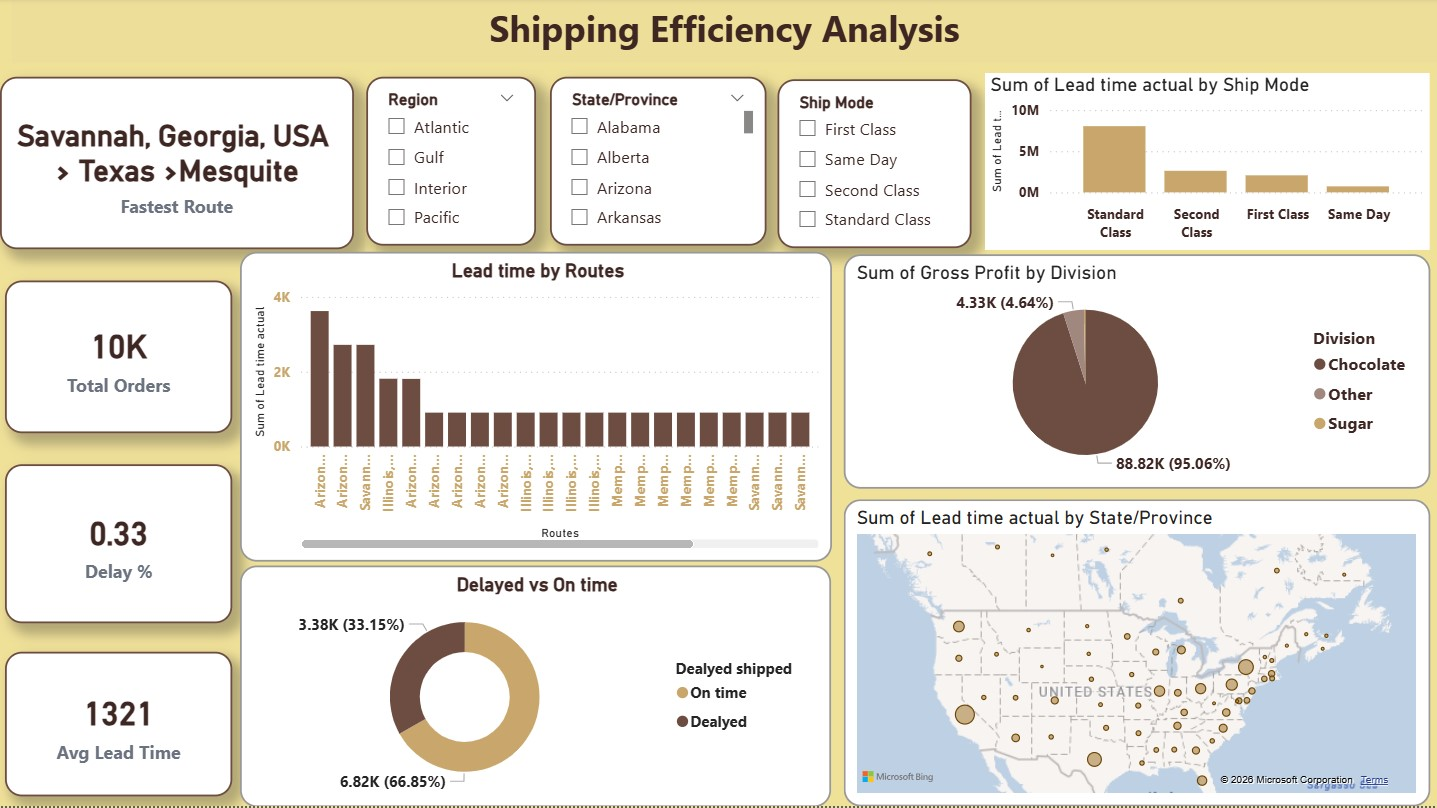

The dashboard page shown, as its layout file describes it:
{"tool":"powerbi","page":{"name":"Shipping efficiency Dashboard","canvas":[1280,720],"ordinal":7},"visuals":[{"type":"textbox","box":[10.2,0,1270.1,58.6],"z":0},{"type":"card","fields":{"Values":["Nassau Candy Distributor.Delay %"]},"box":[5,415,202.5,141.2],"z":1000},{"type":"card","fields":{"Values":["Nassau Candy Distributor.Total Orders"]},"box":[5,251.2,202.5,136.2],"z":2000},{"type":"card","fields":{"Values":["Nassau Candy Distributor.Avg Lead Time"]},"box":[5,582.5,202.5,128.8],"z":3000},{"type":"card","fields":{"Values":["Nassau Candy Distributor.Fastest Route"]},"box":[0,70,315,153.8],"z":4000},{"type":"slicer","fields":{"Values":["Nassau Candy Distributor.Region"]},"box":[326.2,70,151.2,150],"z":5000},{"type":"slicer","fields":{"Values":["Nassau Candy Distributor.State/Province"]},"box":[490,70,192.5,150],"z":6000},{"type":"slicer","fields":{"Values":["Nassau Candy Distributor.Ship Mode"]},"box":[692.5,72.5,172.5,150],"z":7000},{"type":"clusteredColumnChart","title":" Lead time by Routes","fields":{"Category":["Nassau Candy Distributor.Routes"],"Y":["Sum(Nassau Candy Distributor.Lead time actual)"]},"box":[213.8,226.2,527.5,276.2],"z":8000},{"type":"clusteredColumnChart","fields":{"Category":["Nassau Candy Distributor.Ship Mode"],"Y":["Sum(Nassau Candy Distributor.Lead time actual)"]},"box":[877.5,66.2,396.2,157.5],"z":9000},{"type":"map","fields":{"Category":["Nassau Candy Distributor.State/Province"],"Size":["Sum(Nassau Candy Distributor.Lead time actual)"]},"box":[751.6,445.9,522.3,273.9],"z":10000},{"type":"donutChart","title":"Delayed vs On time","fields":{"Category":["Nassau Candy Distributor.Dealyed shipped"],"Y":["CountNonNull(Nassau Candy Distributor.Order ID)"]},"box":[213.8,505,526.2,215],"z":11000},{"type":"pieChart","fields":{"Category":["Nassau Candy Distributor.Division"],"Y":["Sum(Nassau Candy Distributor.Gross Profit)"]},"box":[751.6,228,522.3,208.9],"z":12000}]}

Visuals, with their boxes in screenshot pixels (x1, y1, x2, y2), scaled from the page's 1280x720 canvas onto the 1437x808 screenshot:
textbox: bbox=(11, 0, 1436, 66)
card - Nassau Candy Distributor.Delay %: bbox=(6, 466, 233, 624)
card - Nassau Candy Distributor.Total Orders: bbox=(6, 282, 233, 435)
card - Nassau Candy Distributor.Avg Lead Time: bbox=(6, 654, 233, 798)
card - Nassau Candy Distributor.Fastest Route: bbox=(0, 79, 354, 251)
slicer - Nassau Candy Distributor.Region: bbox=(366, 79, 536, 247)
slicer - Nassau Candy Distributor.State/Province: bbox=(550, 79, 766, 247)
slicer - Nassau Candy Distributor.Ship Mode: bbox=(777, 81, 971, 250)
" Lead time by Routes" clusteredColumnChart: bbox=(240, 254, 832, 564)
clusteredColumnChart - Nassau Candy Distributor.Ship Mode x Sum(Nassau Candy Distributor.Lead time actual): bbox=(985, 74, 1430, 251)
map - Nassau Candy Distributor.State/Province x Sum(Nassau Candy Distributor.Lead time actual): bbox=(844, 500, 1430, 807)
"Delayed vs On time" donutChart: bbox=(240, 567, 831, 807)
pieChart - Nassau Candy Distributor.Division x Sum(Nassau Candy Distributor.Gross Profit): bbox=(844, 256, 1430, 490)
